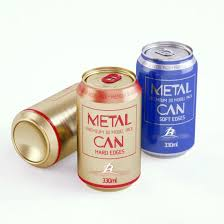can: (9, 65, 143, 189), (139, 38, 201, 164)
